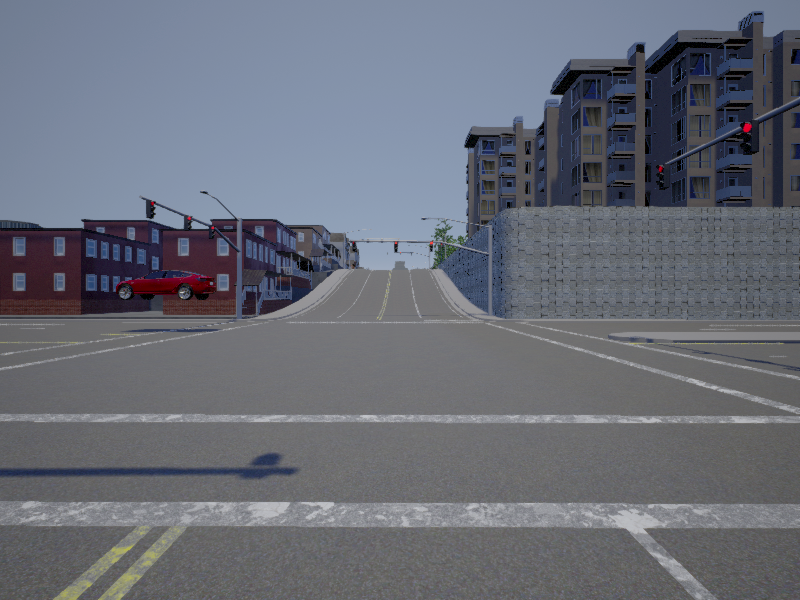Attacker: (115, 270, 216, 299)
